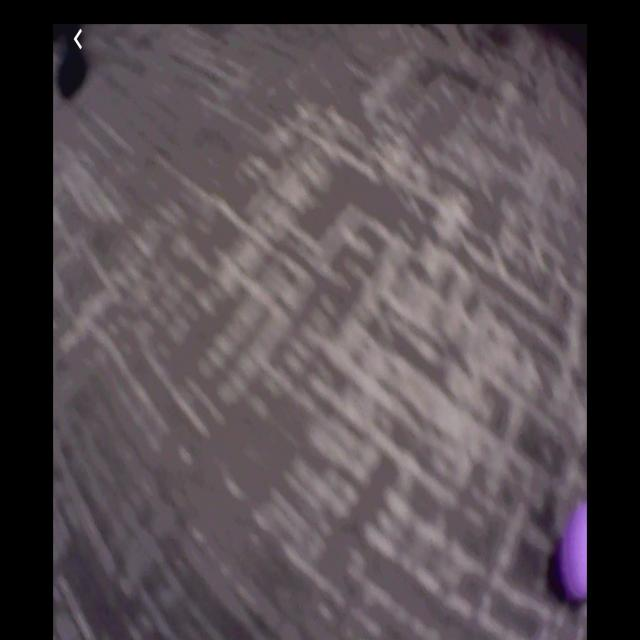ball: (561, 504, 587, 611)
